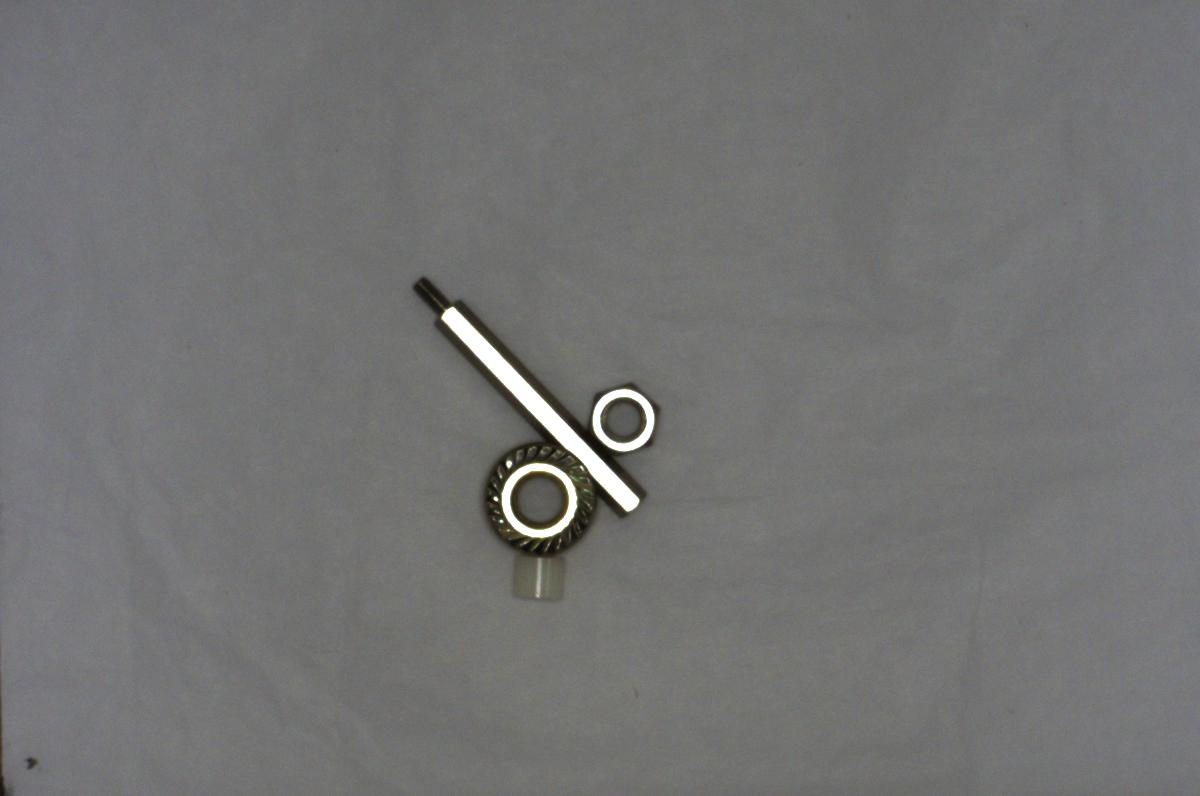Flange nut: (477, 445, 602, 560)
Hexagon nut: (575, 379, 667, 459)
Hexagonal steel column: (404, 270, 658, 522)
Plastic cushion pillar: (500, 534, 578, 608)
